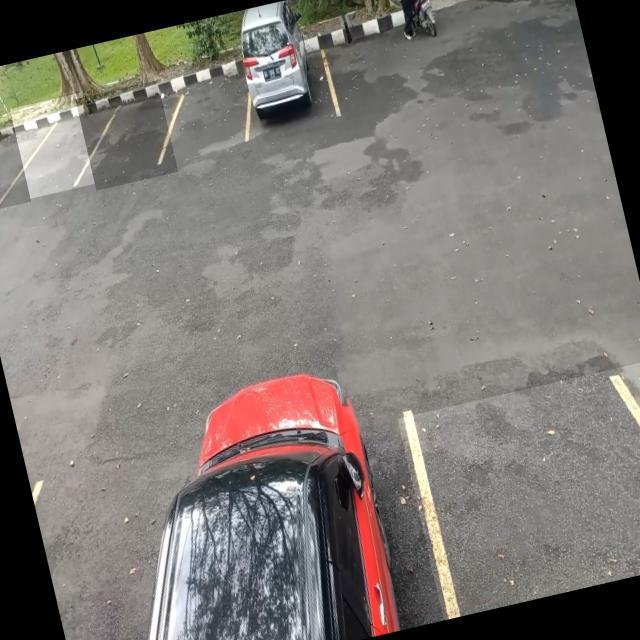empty: (397, 361, 640, 620), (154, 56, 258, 167), (75, 80, 178, 190), (10, 92, 101, 198), (0, 119, 30, 216)
occupied: (235, 24, 342, 140)
